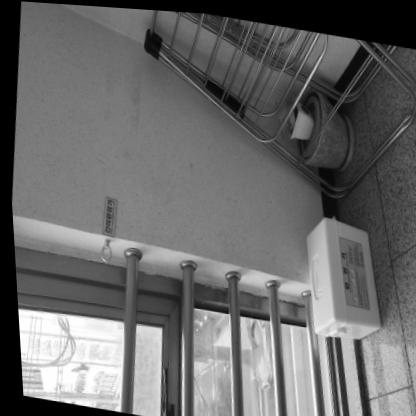DDL: (293, 208, 388, 337)
